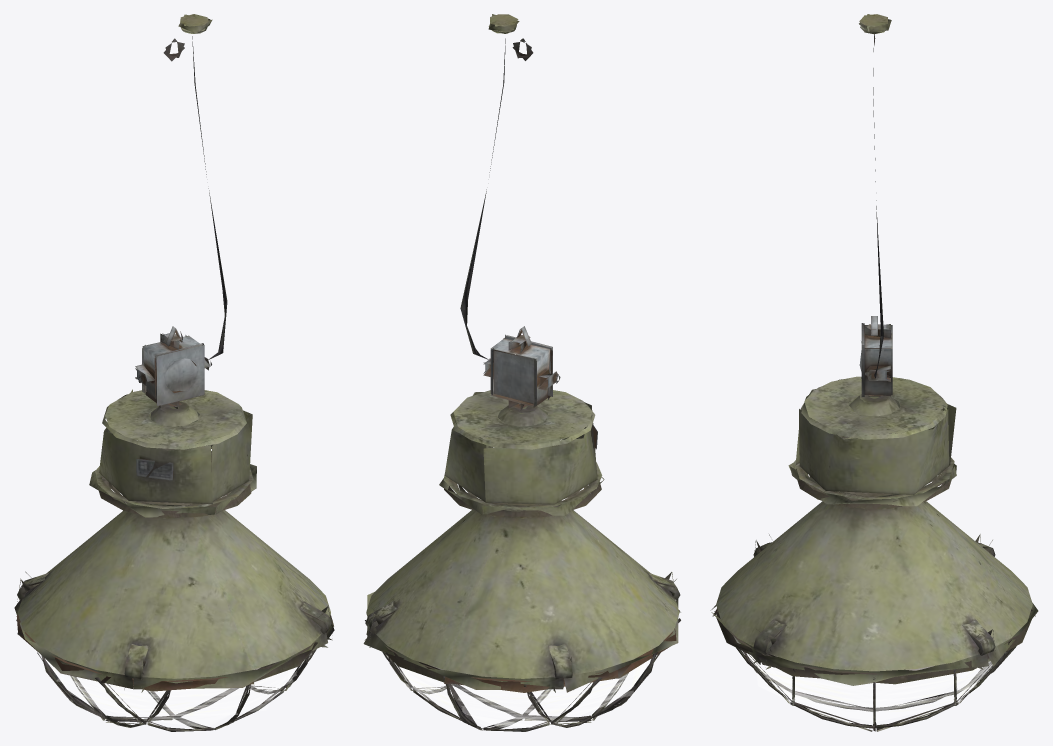
Rendered from hanging_industrial_lamp.glb.
3 views of the same model, side by side, from view 1: azimuth 30°, elevation 25°; view 2: azimuth 150°, elevation 25°; view 3: azimuth 270°, elevation 25° (orthographic).
Visible parts, largest first — view 1: CC0_hanging_industrial_lamp; view 2: CC0_hanging_industrial_lamp; view 3: CC0_hanging_industrial_lamp.
Boxes of the visible parts, box(x1,y1,x2,y2) form: CC0_hanging_industrial_lamp: box(14, 14, 334, 731); CC0_hanging_industrial_lamp: box(363, 14, 680, 731); CC0_hanging_industrial_lamp: box(710, 14, 1038, 731).
Bounding box in the file's own units: 0.5632 × 1.34 × 0.5694.
Materials: 2 (1 with a texture image).
